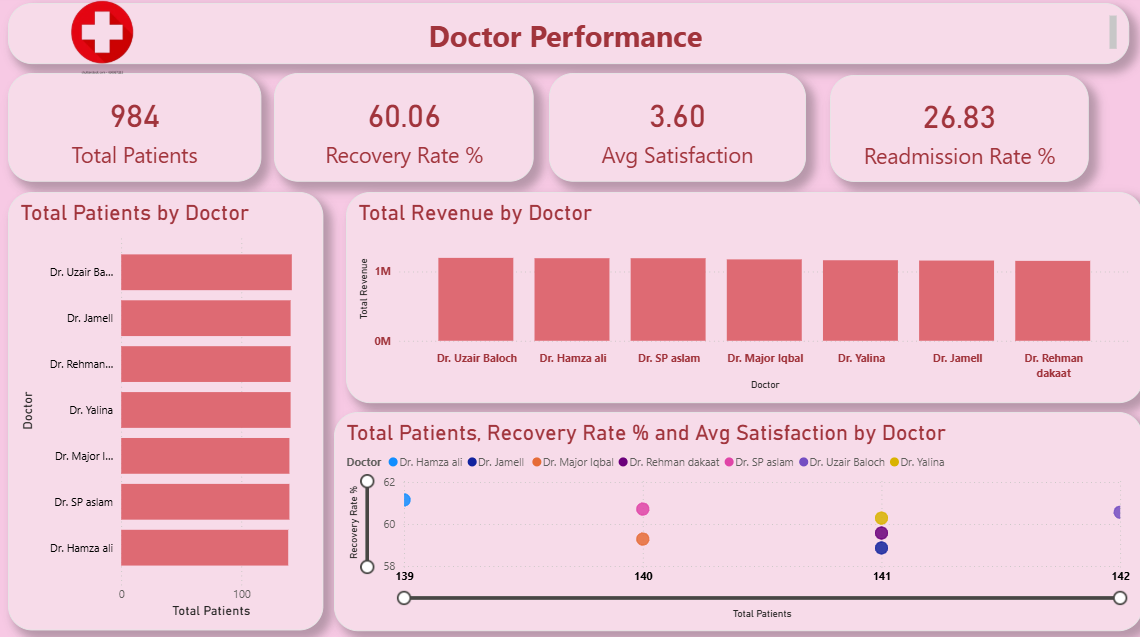

The page's visual inventory and layout, read from the dashboard file:
{"tool":"powerbi","page":{"name":"Doctor Performance","canvas":[1280,720],"ordinal":2},"visuals":[{"type":"textbox","box":[16.6,8.9,1248.1,59.9],"z":0},{"type":"card","fields":{"Values":["hospital data analysis.Total Patients"]},"box":[16.6,86.7,281.8,121.1],"z":1000},{"type":"card","fields":{"Values":["hospital data analysis.Recovery Rate %"]},"box":[312.4,86.7,289.4,121.1],"z":2000},{"type":"card","fields":{"Values":["hospital data analysis.Readmission Rate %"]},"box":[932,89.2,288.1,118.6],"z":3000},{"type":"card","fields":{"Values":["Calendar.Avg Satisfaction"]},"box":[618.3,86.7,285.6,121.1],"z":4000},{"type":"barChart","fields":{"Category":["hospital data analysis.Doctor"],"Y":["hospital data analysis.Total Patients"]},"box":[16.6,219.3,350.6,488.3],"z":5000},{"type":"clusteredColumnChart","fields":{"Category":["hospital data analysis.Doctor"],"Y":["hospital data analysis.Total Revenue"]},"box":[392.7,219.3,887.3,234.6],"z":6000},{"type":"scatterChart","fields":{"X":["hospital data analysis.Total Patients"],"Y":["hospital data analysis.Recovery Rate %"],"Size":["Calendar.Avg Satisfaction"],"Series":["hospital data analysis.Doctor"]},"box":[379.9,464.1,900.1,243.5],"z":7000}]}

Visuals, with their boxes in screenshot pixels (x1, y1, x2, y2), scaled from the page's 1280x720 canvas onto the 1140x637 screenshot:
textbox: rect(15, 8, 1126, 61)
card - hospital data analysis.Total Patients: rect(15, 77, 266, 184)
card - hospital data analysis.Recovery Rate %: rect(278, 77, 536, 184)
card - hospital data analysis.Readmission Rate %: rect(830, 79, 1087, 184)
card - Calendar.Avg Satisfaction: rect(551, 77, 805, 184)
barChart - hospital data analysis.Doctor x hospital data analysis.Total Patients: rect(15, 194, 327, 626)
clusteredColumnChart - hospital data analysis.Doctor x hospital data analysis.Total Revenue: rect(350, 194, 1139, 402)
scatterChart - hospital data analysis.Total Patients x hospital data analysis.Recovery Rate %: rect(338, 411, 1139, 626)
